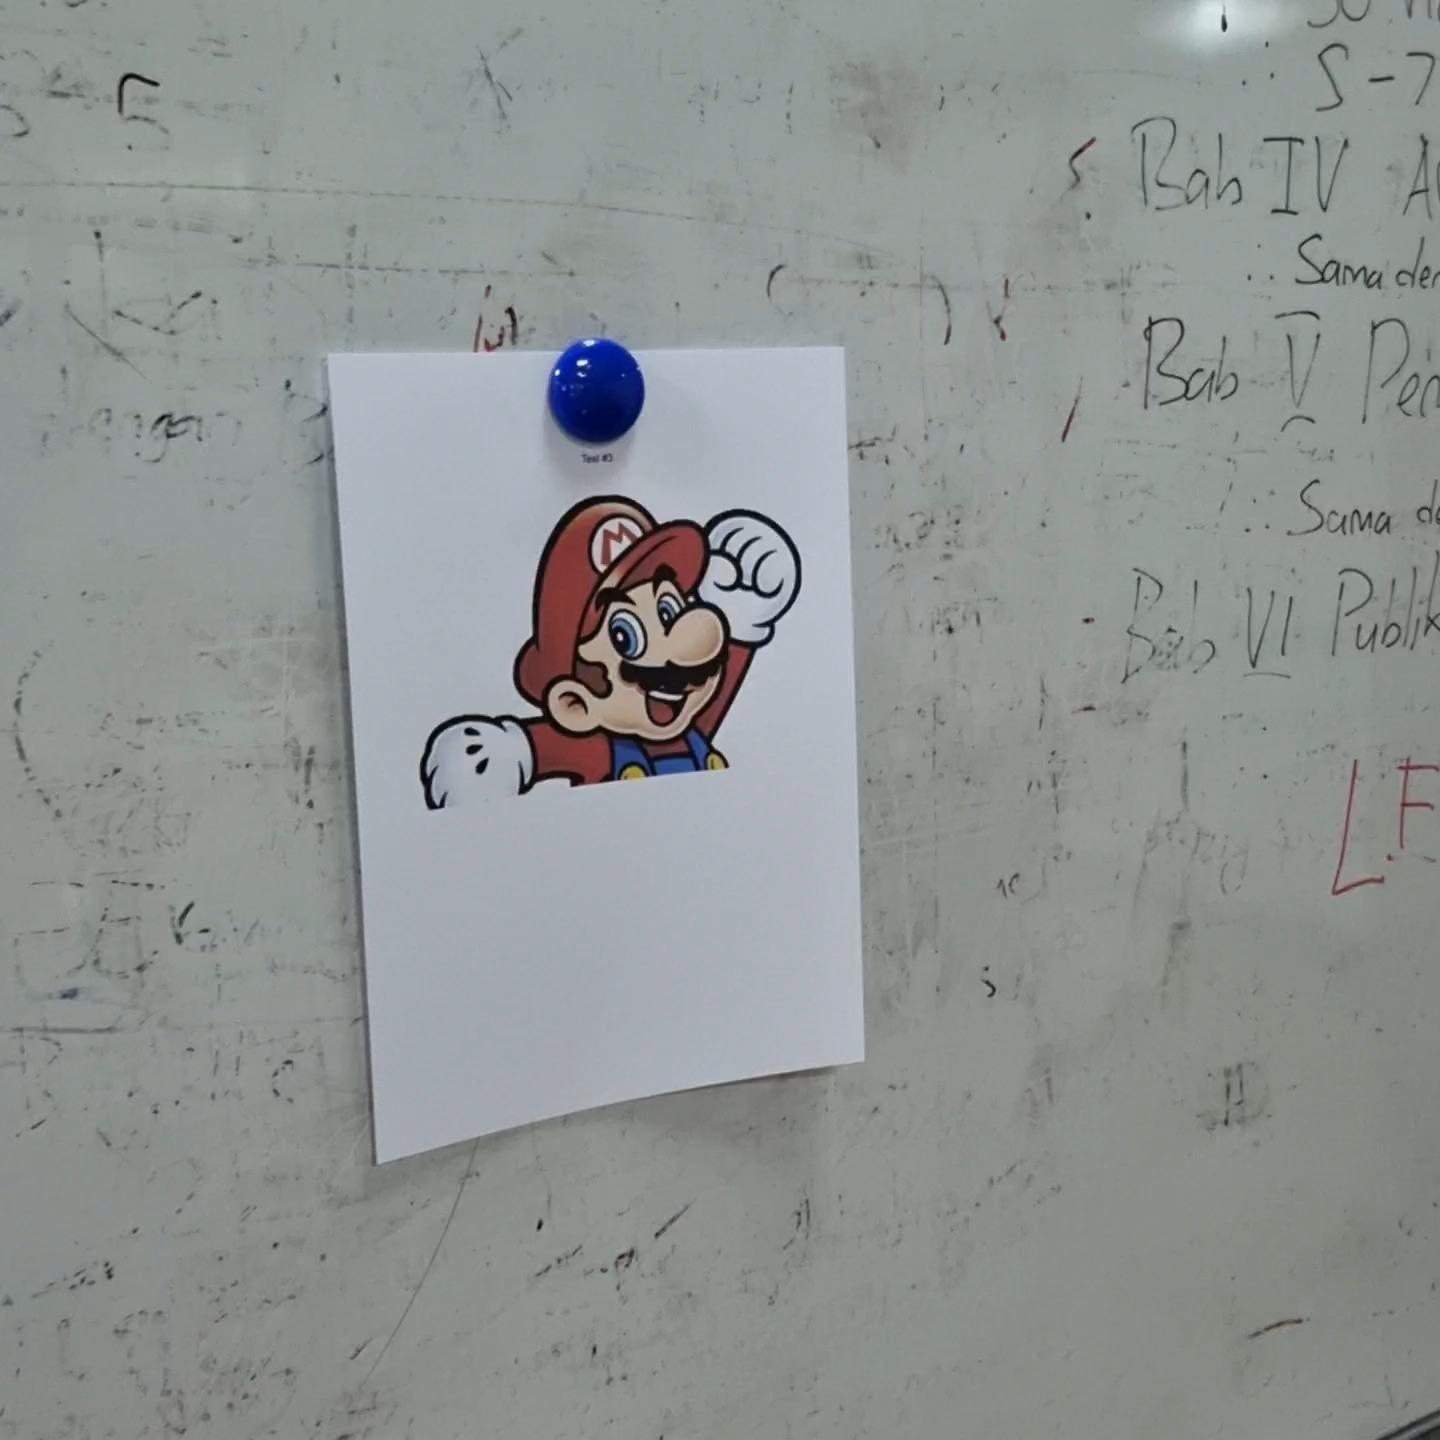mario: (414, 484, 806, 820)
